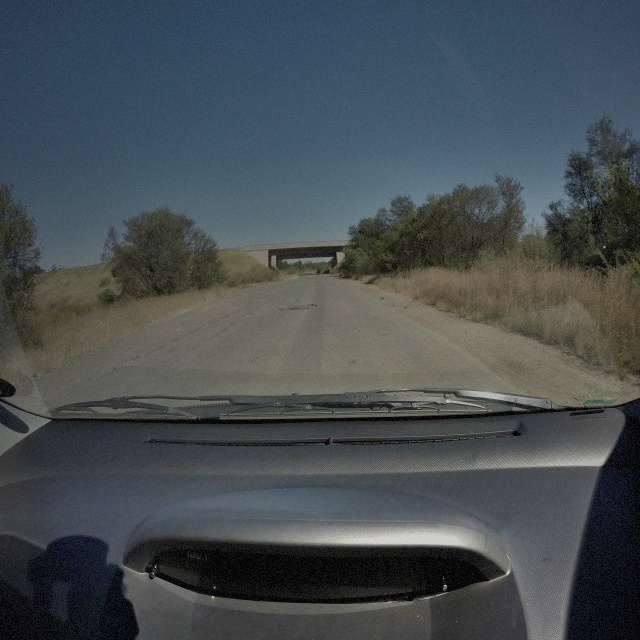pothole: (301, 302, 319, 310), (244, 311, 253, 318)
